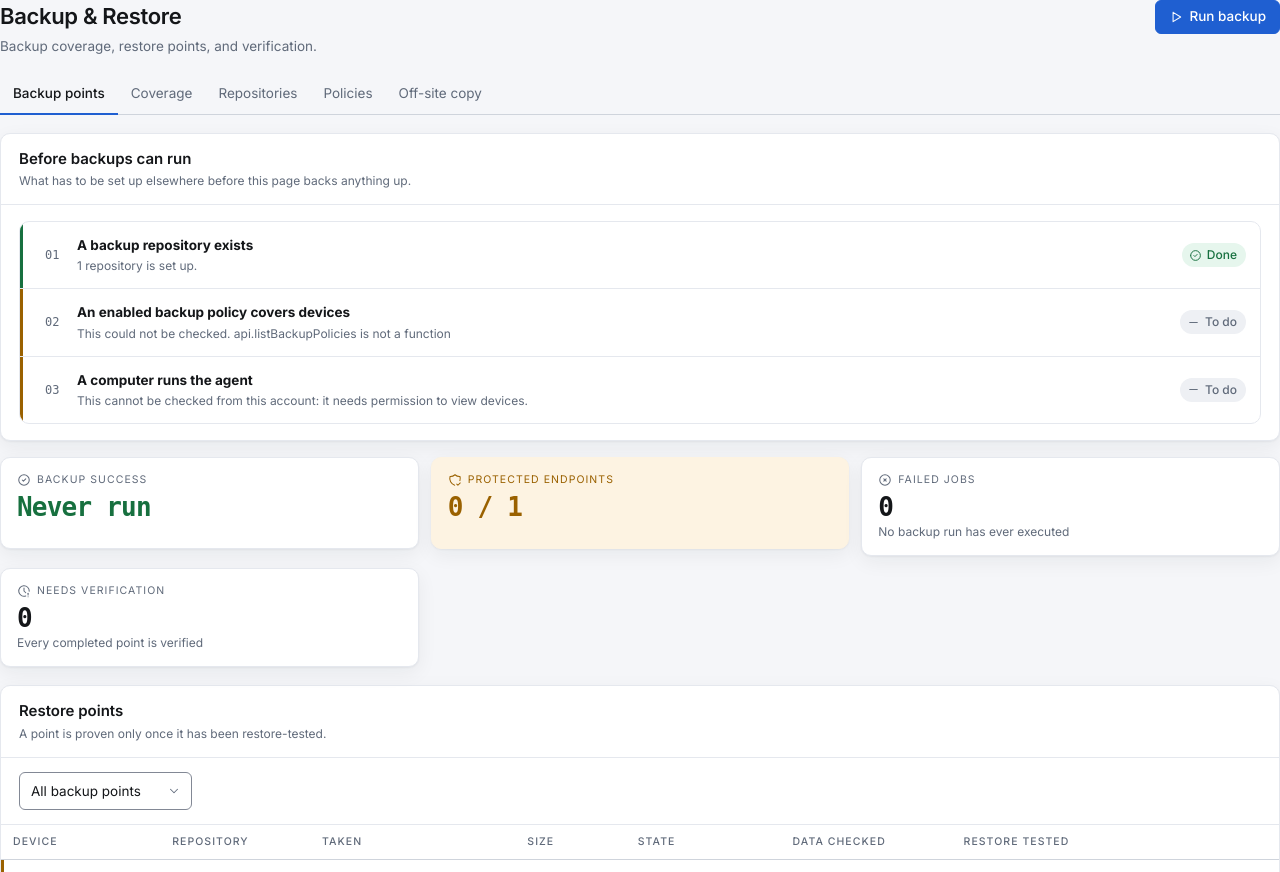
Test: BackupPointsPage › names the unpicked Device on submit instead of disabling Run
Click the button "Run backup" at (1218, 17), box x1=1156 y1=0 x2=1279 y2=34
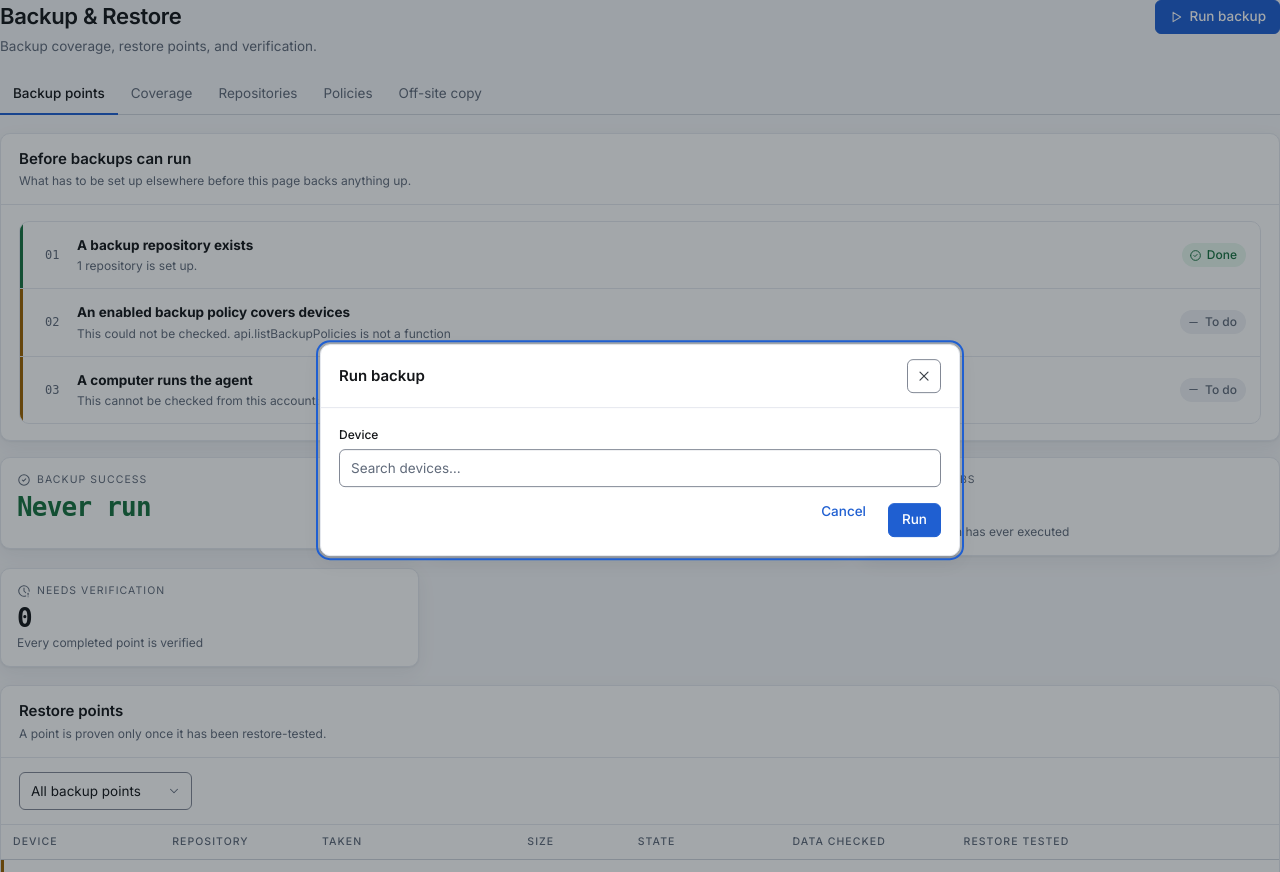
Check: the button "Run" is enabled
Click the button "Run" at (914, 520), box x1=888 y1=503 x2=941 y2=537
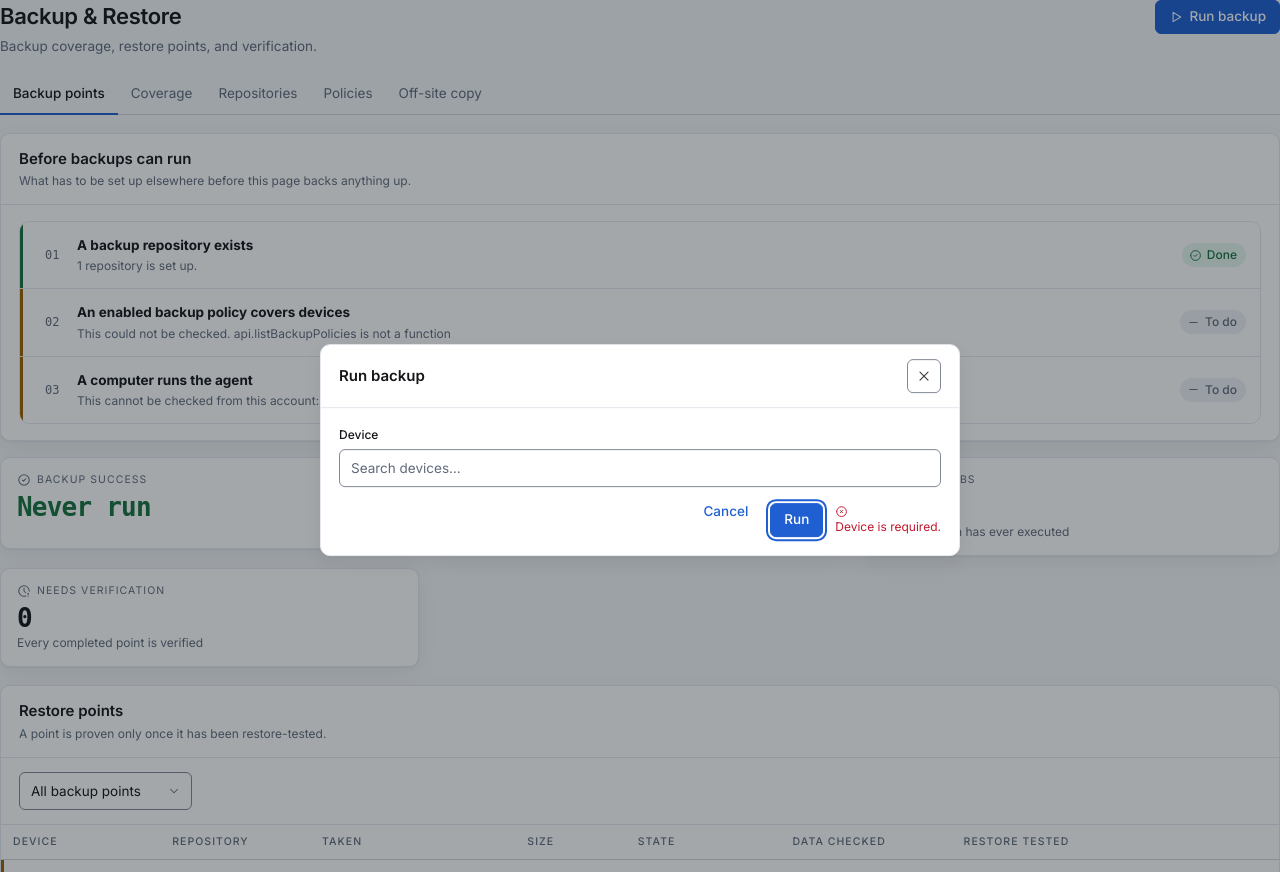
Check: the message shows "Device is required", box x1=835 y1=519 x2=938 y2=534
